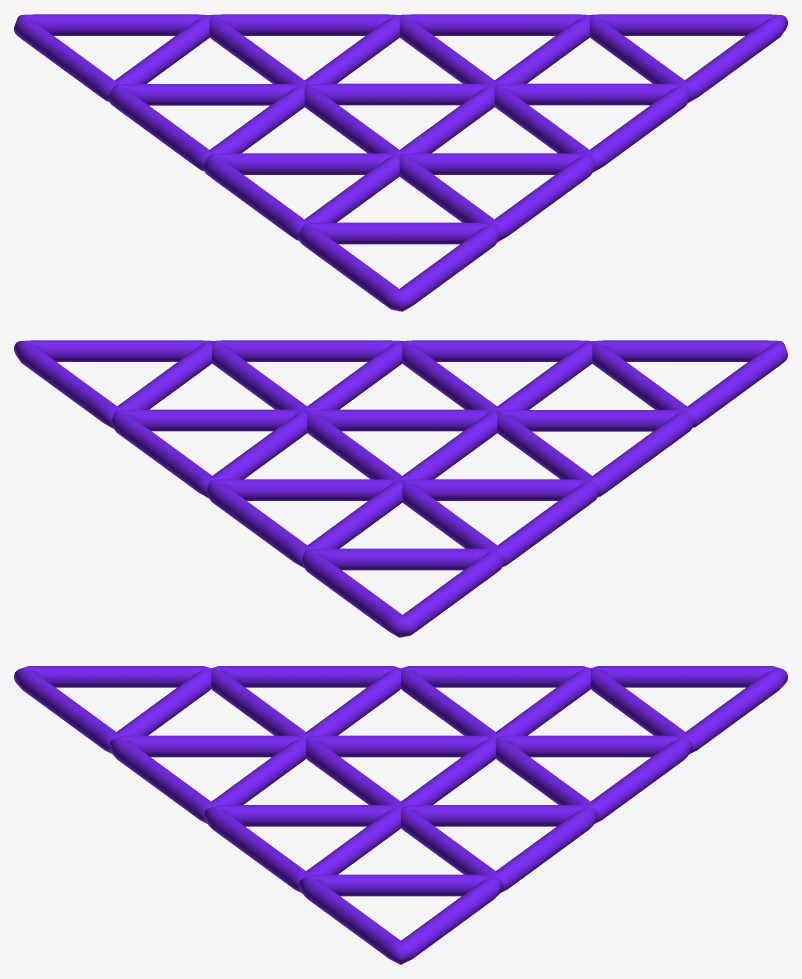
The model's file is ThreeJs.glb.
The picture shows the model from 3 angles, top to bottom: view 1: azimuth 30°, elevation 25°; view 2: azimuth 150°, elevation 25°; view 3: azimuth 270°, elevation 25°; orthographic projection.
Visible parts, largest first — view 1: Cube; view 2: Cube; view 3: Cube.
Boxes of the visible parts, x1,y1,x2,y2 form: Cube: [14, 14, 787, 311]; Cube: [14, 340, 787, 637]; Cube: [14, 666, 787, 964].
Size of the model in its own units: 6.26 by 0.2 by 7.15.
